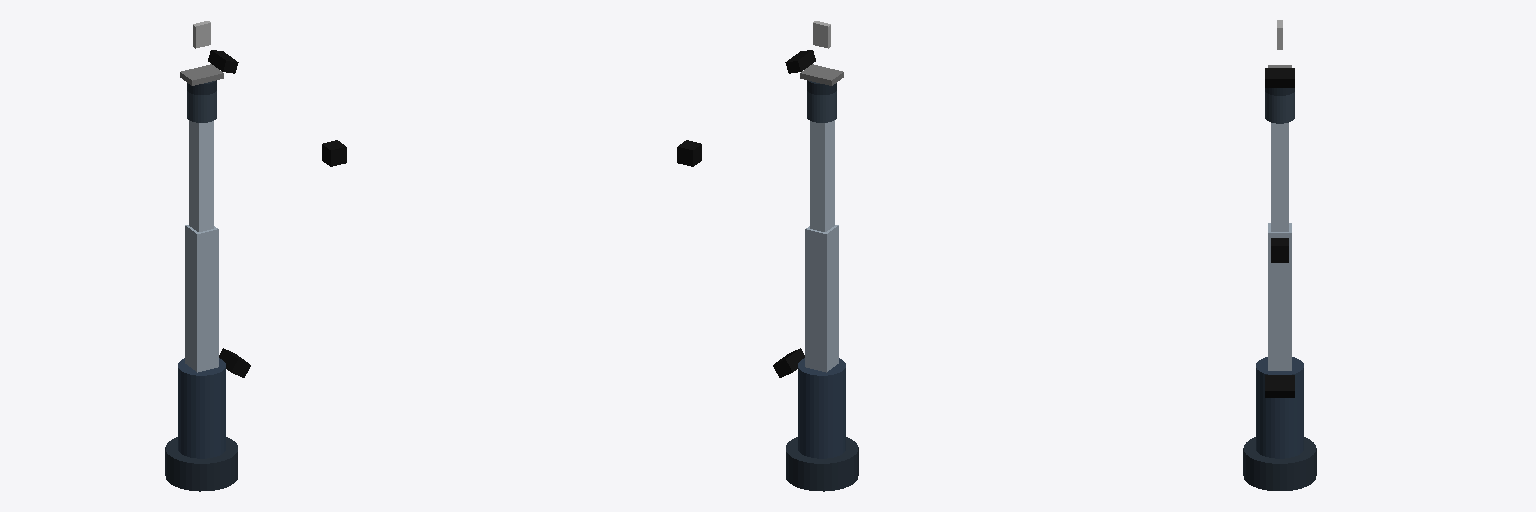
URDF robot description (robot_arm):
<?xml version="1.0" ?>
<!-- =================================================================================== -->
<!-- |    This document was autogenerated by xacro from /home/tienle/ARMROBOT/src/robot_arm/urdf/robot_arm.urdf.xacro | -->
<!-- |    EDITING THIS FILE BY HAND IS NOT RECOMMENDED                                 | -->
<!-- =================================================================================== -->
<robot name="robot_arm">
  <!-- ===================== LINKS & JOINTS ===================== -->
  <!-- World link (for fixed base) -->
  <link name="world"/>
  <!-- Base Link -->
  <joint name="world_to_base" type="fixed">
    <parent link="world"/>
    <child link="base_link"/>
    <origin rpy="0 0 0" xyz="0 0 0.025"/>
  </joint>
  <link name="base_link">
    <inertial>
      <mass value="2.0"/>
      <inertia ixx="0.0022166666666666663" ixy="0" ixz="0" iyy="0.0022166666666666663" iyz="0" izz="0.0036"/>
    </inertial>
    <visual>
      <geometry>
        <cylinder length="0.05" radius="0.06"/>
      </geometry>
      <material name="dark_slate">
        <color rgba="0.18 0.22 0.26 1.0"/>
      </material>
    </visual>
    <collision>
      <geometry>
        <cylinder length="0.05" radius="0.06"/>
      </geometry>
    </collision>
  </link>
  <!-- Link1 - Turret (rotates around Z) -->
  <joint name="joint1" type="revolute">
    <parent link="base_link"/>
    <child link="link1"/>
    <origin rpy="0 0 0" xyz="0 0 0.025"/>
    <axis xyz="0 0 1"/>
    <limit effort="50.0" lower="-3.141592653589793" upper="3.141592653589793" velocity="2.0"/>
    <dynamics damping="0.5" friction="0.1"/>
  </joint>
  <link name="link1">
    <inertial>
      <mass value="1.0"/>
      <inertia ixx="0.0022749999999999997" ixy="0" ixz="0" iyy="0.0022749999999999997" iyz="0" izz="0.0008"/>
    </inertial>
    <visual>
      <origin rpy="0 0 0" xyz="0 0 0.075"/>
      <geometry>
        <cylinder length="0.15" radius="0.04"/>
      </geometry>
      <material name="slate_grey">
        <color rgba="0.22 0.28 0.35 1.0"/>
      </material>
    </visual>
    <collision>
      <origin rpy="0 0 0" xyz="0 0 0.075"/>
      <geometry>
        <cylinder length="0.15" radius="0.04"/>
      </geometry>
    </collision>
  </link>
  <!-- Link2 - Upper arm (rotates around Y) -->
  <joint name="joint2" type="revolute">
    <parent link="link1"/>
    <child link="link2"/>
    <origin rpy="0 0 0" xyz="0 0 0.15"/>
    <axis xyz="0 1 0"/>
    <limit effort="50.0" lower="-2.5" upper="2.5" velocity="2.0"/>
    <dynamics damping="0.5" friction="0.1"/>
  </joint>
  <link name="link2">
    <inertial>
      <mass value="0.8"/>
      <inertia ixx="0.004273333333333334" ixy="0" ixz="0" iyy="0.004273333333333334" iyz="0" izz="0.00021333333333333333"/>
    </inertial>
    <visual>
      <origin rpy="0 0 0" xyz="0 0 0.125"/>
      <geometry>
        <box size="0.04 0.04 0.25"/>
      </geometry>
      <material name="metallic_silver">
        <color rgba="0.65 0.70 0.75 1.0"/>
      </material>
    </visual>
    <collision>
      <origin rpy="0 0 0" xyz="0 0 0.125"/>
      <geometry>
        <box size="0.04 0.04 0.25"/>
      </geometry>
    </collision>
  </link>
  <!-- Link3 - Forearm (rotates around Y) -->
  <joint name="joint3" type="revolute">
    <parent link="link2"/>
    <child link="link3"/>
    <origin rpy="0 0 0" xyz="0 0 0.25"/>
    <axis xyz="0 1 0"/>
    <limit effort="50.0" lower="-2.5" upper="2.5" velocity="2.0"/>
    <dynamics damping="0.3" friction="0.1"/>
  </joint>
  <link name="link3">
    <inertial>
      <mass value="0.5"/>
      <inertia ixx="0.0017041666666666668" ixy="0" ixz="0" iyy="0.0017041666666666668" iyz="0" izz="7.5e-05"/>
    </inertial>
    <visual>
      <origin rpy="0 0 0" xyz="0 0 0.1"/>
      <geometry>
        <box size="0.03 0.03 0.2"/>
      </geometry>
      <material name="aluminum">
        <color rgba="0.70 0.75 0.80 1.0"/>
      </material>
    </visual>
    <collision>
      <origin rpy="0 0 0" xyz="0 0 0.1"/>
      <geometry>
        <box size="0.03 0.03 0.2"/>
      </geometry>
    </collision>
  </link>
  <!-- Link4 - Wrist (4th DOF: rotates around Y for wrist pitch) -->
  <joint name="joint4" type="revolute">
    <parent link="link3"/>
    <child link="link4"/>
    <origin rpy="0 0 0" xyz="0 0 0.2"/>
    <axis xyz="0 1 0"/>
    <limit effort="20.0" lower="-2.2" upper="2.2" velocity="3.0"/>
    <dynamics damping="0.2" friction="0.05"/>
  </joint>
  <link name="link4">
    <inertial>
      <mass value="0.15"/>
      <inertia ixx="3.46875e-05" ixy="0" ixz="0" iyy="3.46875e-05" iyz="0" izz="4.6875e-05"/>
    </inertial>
    <visual>
      <origin rpy="0 0 0" xyz="0 0 0.015"/>
      <geometry>
        <cylinder length="0.03" radius="0.025"/>
      </geometry>
      <material name="wrist_dark">
        <color rgba="0.25 0.30 0.35 1.0"/>
      </material>
    </visual>
    <collision>
      <origin rpy="0 0 0" xyz="0 0 0.015"/>
      <geometry>
        <cylinder length="0.03" radius="0.025"/>
      </geometry>
    </collision>
  </link>
  <!-- Joint 5 - Wrist Pitch/Yaw (rotates around X) -->
  <joint name="joint5" type="revolute">
    <parent link="link4"/>
    <child link="link5"/>
    <origin rpy="0 0 0" xyz="0 0 0.03"/>
    <axis xyz="1 0 0"/>
    <limit effort="20.0" lower="-2.5" upper="2.5" velocity="3.0"/>
    <dynamics damping="0.1" friction="0.05"/>
  </joint>
  <link name="link5">
    <inertial>
      <mass value="0.1"/>
      <inertia ixx="1.8958333333333338e-05" ixy="0" ixz="0" iyy="1.8958333333333338e-05" iyz="0" izz="3.125000000000001e-05"/>
    </inertial>
    <visual>
      <origin rpy="0 0 0" xyz="0 0 0.01"/>
      <geometry>
        <cylinder length="0.02" radius="0.025"/>
      </geometry>
      <material name="wrist_dark">
        <color rgba="0.25 0.30 0.35 1.0"/>
      </material>
    </visual>
    <collision>
      <origin rpy="0 0 0" xyz="0 0 0.01"/>
      <geometry>
        <cylinder length="0.02" radius="0.025"/>
      </geometry>
    </collision>
  </link>
  <!-- Joint 6 - Tool Flange / Wrist Roll (rotates around Z) -->
  <joint name="joint6" type="revolute">
    <parent link="link5"/>
    <child link="link6"/>
    <origin rpy="0 0 0" xyz="0 0 0.02"/>
    <axis xyz="0 0 1"/>
    <limit effort="20.0" lower="-3.141592653589793" upper="3.141592653589793" velocity="3.0"/>
    <dynamics damping="0.1" friction="0.05"/>
  </joint>
  <link name="link6">
    <inertial>
      <mass value="0.08"/>
      <inertia ixx="1.516666666666667e-05" ixy="0" ixz="0" iyy="1.516666666666667e-05" iyz="0" izz="2.5e-05"/>
    </inertial>
    <visual>
      <origin rpy="0 0 0" xyz="0 0 0.01"/>
      <geometry>
        <cylinder length="0.02" radius="0.025"/>
      </geometry>
      <material name="flange_dark">
        <color rgba="0.18 0.22 0.26 1.0"/>
      </material>
    </visual>
    <collision>
      <origin rpy="0 0 0" xyz="0 0 0.01"/>
      <geometry>
        <cylinder length="0.02" radius="0.025"/>
      </geometry>
    </collision>
  </link>
  <joint name="end_effector_joint" type="fixed">
    <parent link="link6"/>
    <child link="end_effector_link"/>
    <origin rpy="0 0 0" xyz="0 0 0.02"/>
  </joint>
  <link name="end_effector_link"/>
  <!-- ===================== GRIPPER (Franka Hand Modern Parallel-Jaw) ===================== -->
  <!-- Gripper base (sits right at the end of the arm) -->
  <joint name="gripper_base_joint" type="fixed">
    <parent link="end_effector_link"/>
    <child link="gripper_base_link"/>
    <origin rpy="0 0 0" xyz="0 0 0"/>
  </joint>
  <link name="gripper_base_link">
    <inertial>
      <mass value="0.1"/>
      <inertia ixx="0.00015" ixy="0" ixz="0" iyy="5.9999999999999995e-05" iyz="0" izz="0.00015"/>
    </inertial>
    <visual>
      <origin rpy="0 0 0" xyz="0 0 0.005"/>
      <geometry>
        <box size="0.06 0.04 0.01"/>
      </geometry>
      <material name="grey">
        <color rgba="0.5 0.5 0.5 1.0"/>
      </material>
    </visual>
    <collision>
      <origin rpy="0 0 0" xyz="0 0 0.02"/>
      <geometry>
        <box size="0.06 0.12 0.05"/>
      </geometry>
    </collision>
  </link>
  <!-- Left finger (prismatic along Y, opens outward +Y, extends in +Z) -->
  <joint name="gripper_left_joint" type="prismatic">
    <parent link="gripper_base_link"/>
    <child link="finger_left_link"/>
    <origin rpy="0 0 0" xyz="0 0 0.0584"/>
    <axis xyz="0 1 0"/>
    <limit effort="20.0" lower="0.0" upper="0.035" velocity="0.5"/>
    <dynamics damping="0.1"/>
  </joint>
  <link name="finger_left_link">
    <inertial>
      <mass value="0.05"/>
      <inertia ixx="7.6041666666666666e-06" ixy="0" ixz="0" iyy="8.333333333333334e-06" iyz="0" izz="2.6041666666666666e-06"/>
    </inertial>
    <visual>
      <origin rpy="0 0 0" xyz="0 0 0.02"/>
      <geometry>
        <box size="0.03 0.01 0.04"/>
      </geometry>
      <material name="light_grey">
        <color rgba="0.7 0.7 0.7 1.0"/>
      </material>
    </visual>
    <collision>
      <origin rpy="0 0 0" xyz="0 0.0075 0.045"/>
      <geometry>
        <box size="0.018 0.015 0.04"/>
      </geometry>
    </collision>
  </link>
  <!-- Right finger (mimic of left, moves in -Y, extends in +Z) -->
  <joint name="gripper_right_joint" type="prismatic">
    <parent link="gripper_base_link"/>
    <child link="finger_right_link"/>
    <origin rpy="0 0 3.141592653589793" xyz="0 0 0.0584"/>
    <axis xyz="0 1 0"/>
    <limit effort="20.0" lower="0.0" upper="0.035" velocity="0.5"/>
    <mimic joint="gripper_left_joint" multiplier="1" offset="0"/>
    <dynamics damping="0.1"/>
  </joint>
  <link name="finger_right_link">
    <inertial>
      <mass value="0.05"/>
      <inertia ixx="7.6041666666666666e-06" ixy="0" ixz="0" iyy="8.333333333333334e-06" iyz="0" izz="2.6041666666666666e-06"/>
    </inertial>
    <visual>
      <origin rpy="0 0 0" xyz="0 0 0.02"/>
      <geometry>
        <box size="0.03 0.01 0.04"/>
      </geometry>
      <material name="light_grey">
        <color rgba="0.7 0.7 0.7 1.0"/>
      </material>
    </visual>
    <collision>
      <origin rpy="0 0 0" xyz="0 0.0075 0.045"/>
      <geometry>
        <box size="0.018 0.015 0.04"/>
      </geometry>
    </collision>
  </link>
  <!-- Grasp Center (virtual reference frame located at the center of the finger pads) -->
  <joint name="grasp_joint" type="fixed">
    <parent link="end_effector_link"/>
    <child link="grasp_link"/>
    <origin rpy="0 0 0" xyz="0 0 0.1034"/>
  </joint>
  <link name="grasp_link"/>
  <!-- ===================== CAMERA ===================== -->
  <!-- Camera mount (fixed overhead, looking straight down) -->
  <joint name="camera_joint" type="fixed">
    <parent link="base_link"/>
    <child link="camera_link"/>
    <origin rpy="0 1.5707963267948966 0" xyz="0.25 0.0 0.50"/>
  </joint>
  <link name="camera_link">
    <inertial>
      <mass value="0.05"/>
      <inertia ixx="7.499999999999999e-06" ixy="0" ixz="0" iyy="7.499999999999999e-06" iyz="0" izz="7.499999999999999e-06"/>
    </inertial>
    <visual>
      <geometry>
        <box size="0.03 0.03 0.03"/>
      </geometry>
      <material name="black">
        <color rgba="0.1 0.1 0.1 1.0"/>
      </material>
    </visual>
    <collision>
      <geometry>
        <box size="0.03 0.03 0.03"/>
      </geometry>
    </collision>
  </link>
  <!-- Camera optical frame (Z forward, X right, Y down) -->
  <joint name="camera_optical_joint" type="fixed">
    <parent link="camera_link"/>
    <child link="camera_optical_link"/>
    <origin rpy="-1.5707963267948966 0 -1.5707963267948966" xyz="0 0 0"/>
  </joint>
  <link name="camera_optical_link"/>
  <!-- ===================== DUAL DYNAMIC CAMERAS ===================== -->
  <!-- Dynamic Camera 1: Wrist Eye-in-Hand Camera (moves with gripper) -->
  <joint name="camera_wrist_joint" type="fixed">
    <parent link="gripper_base_link"/>
    <child link="camera_wrist_link"/>
    <origin rpy="0 0.35 0" xyz="0.04 0.0 0.02"/>
  </joint>
  <link name="camera_wrist_link">
    <inertial>
      <mass value="0.05"/>
      <inertia ixx="1.2083333333333337e-05" ixy="0" ixz="0" iyy="4.270833333333333e-06" iyz="0" izz="1.3020833333333336e-05"/>
    </inertial>
    <visual>
      <geometry>
        <box size="0.025 0.05 0.02"/>
      </geometry>
      <material name="black">
        <color rgba="0.1 0.1 0.1 1.0"/>
      </material>
    </visual>
    <collision>
      <geometry>
        <box size="0.025 0.05 0.02"/>
      </geometry>
    </collision>
  </link>
  <joint name="camera_wrist_optical_joint" type="fixed">
    <parent link="camera_wrist_link"/>
    <child link="camera_wrist_optical_link"/>
    <origin rpy="-1.5707963267948966 0 -1.5707963267948966" xyz="0 0 0"/>
  </joint>
  <link name="camera_wrist_optical_link"/>
  <!-- Dynamic Camera 2: Arm Turret Tracking Camera (moves with joint1 base yaw) -->
  <joint name="camera_arm_joint" type="fixed">
    <parent link="link1"/>
    <child link="camera_arm_link"/>
    <origin rpy="0 0.60 0" xyz="0.06 0.0 0.14"/>
  </joint>
  <link name="camera_arm_link">
    <inertial>
      <mass value="0.05"/>
      <inertia ixx="1.3020833333333336e-05" ixy="0" ixz="0" iyy="6.354166666666667e-06" iyz="0" izz="1.4166666666666668e-05"/>
    </inertial>
    <visual>
      <geometry>
        <box size="0.03 0.05 0.025"/>
      </geometry>
      <material name="black">
        <color rgba="0.1 0.1 0.1 1.0"/>
      </material>
    </visual>
    <collision>
      <geometry>
        <box size="0.03 0.05 0.025"/>
      </geometry>
    </collision>
  </link>
  <joint name="camera_arm_optical_joint" type="fixed">
    <parent link="camera_arm_link"/>
    <child link="camera_arm_optical_link"/>
    <origin rpy="-1.5707963267948966 0 -1.5707963267948966" xyz="0 0 0"/>
  </joint>
  <link name="camera_arm_optical_link"/>
  <!-- ===================== ros2_control HARDWARE INTERFACE ===================== -->
  <ros2_control name="GazeboSimSystem" type="system">
    <hardware>
      <plugin>gz_ros2_control/GazeboSimSystem</plugin>
    </hardware>
    <!-- Joint 1 - Base rotation -->
    <joint name="joint1">
      <command_interface name="position">
        <param name="min">-3.14159</param>
        <param name="max">3.14159</param>
      </command_interface>
      <state_interface name="position"/>
      <state_interface name="velocity"/>
    </joint>
    <!-- Joint 2 - Shoulder -->
    <joint name="joint2">
      <command_interface name="position">
        <param name="min">-2.5</param>
        <param name="max">2.5</param>
      </command_interface>
      <state_interface name="position"/>
      <state_interface name="velocity"/>
    </joint>
    <!-- Joint 3 - Elbow -->
    <joint name="joint3">
      <command_interface name="position">
        <param name="min">-2.5</param>
        <param name="max">2.5</param>
      </command_interface>
      <state_interface name="position"/>
      <state_interface name="velocity"/>
    </joint>
    <!-- Joint 4 - Wrist Pitch (4th DOF) -->
    <joint name="joint4">
      <command_interface name="position">
        <param name="min">-2.2</param>
        <param name="max">2.2</param>
      </command_interface>
      <state_interface name="position"/>
      <state_interface name="velocity"/>
    </joint>
    <!-- Joint 5 - Wrist Pitch/Yaw (5th DOF) -->
    <joint name="joint5">
      <command_interface name="position">
        <param name="min">-2.5</param>
        <param name="max">2.5</param>
      </command_interface>
      <state_interface name="position"/>
      <state_interface name="velocity"/>
    </joint>
    <!-- Joint 6 - Tool Flange Roll (6th DOF) -->
    <joint name="joint6">
      <command_interface name="position">
        <param name="min">-3.14159</param>
        <param name="max">3.14159</param>
      </command_interface>
      <state_interface name="position"/>
      <state_interface name="velocity"/>
    </joint>
    <!-- Gripper - Left finger -->
    <joint name="gripper_left_joint">
      <command_interface name="position">
        <param name="min">0.0</param>
        <param name="max">0.035</param>
      </command_interface>
      <state_interface name="position"/>
      <state_interface name="velocity"/>
    </joint>
    <!-- Gripper - Right finger (mimics left finger in opposite direction) -->
    <joint name="gripper_right_joint">
      <param name="mimic">gripper_left_joint</param>
      <param name="multiplier">1</param>
      <state_interface name="position"/>
      <state_interface name="velocity"/>
    </joint>
  </ros2_control>
  <!-- ===================== GAZEBO PLUGIN: ros2_control ===================== -->
  <gazebo>
    <plugin filename="gz_ros2_control-system" name="gz_ros2_control::GazeboSimROS2ControlPlugin">
      <parameters>/home/tienle/ARMROBOT/install/robot_arm/share/robot_arm/config/controllers_6dof.yaml</parameters>
    </plugin>
  </gazebo>
  <!-- ===================== GAZEBO COLORS (Modern Industrial Robotic Finish) ===================== -->
  <gazebo reference="base_link">
    <material>
      <ambient>0.18 0.22 0.26 1</ambient>
      <diffuse>0.18 0.22 0.26 1</diffuse>
      <specular>0.4 0.4 0.4 1</specular>
    </material>
  </gazebo>
  <gazebo reference="link1">
    <material>
      <ambient>0.22 0.28 0.35 1</ambient>
      <diffuse>0.22 0.28 0.35 1</diffuse>
      <specular>0.3 0.3 0.3 1</specular>
    </material>
  </gazebo>
  <gazebo reference="link2">
    <material>
      <ambient>0.65 0.70 0.75 1</ambient>
      <diffuse>0.65 0.70 0.75 1</diffuse>
      <specular>0.5 0.5 0.5 1</specular>
    </material>
  </gazebo>
  <gazebo reference="link3">
    <material>
      <ambient>0.70 0.75 0.80 1</ambient>
      <diffuse>0.70 0.75 0.80 1</diffuse>
      <specular>0.5 0.5 0.5 1</specular>
    </material>
  </gazebo>
  <!-- Link4 - Wrist Pitch -->
  <gazebo reference="link4">
    <material>
      <ambient>0.25 0.30 0.35 1</ambient>
      <diffuse>0.25 0.30 0.35 1</diffuse>
      <specular>0.3 0.3 0.3 1</specular>
    </material>
  </gazebo>
  <!-- Link5 - Wrist Pitch/Roll -->
  <gazebo reference="link5">
    <material>
      <ambient>0.18 0.22 0.26 1</ambient>
      <diffuse>0.18 0.22 0.26 1</diffuse>
      <specular>0.4 0.4 0.4 1</specular>
    </material>
  </gazebo>
  <!-- Link6 - Flange / Wrist Roll -->
  <gazebo reference="link6">
    <material>
      <ambient>0.25 0.30 0.35 1</ambient>
      <diffuse>0.25 0.30 0.35 1</diffuse>
      <specular>0.5 0.5 0.5 1</specular>
    </material>
  </gazebo>
  <!-- Franka Hand (Clean Industrial White) -->
  <gazebo reference="gripper_base_link">
    <material>
      <ambient>0.92 0.92 0.94 1</ambient>
      <diffuse>0.92 0.92 0.94 1</diffuse>
      <specular>0.6 0.6 0.6 1</specular>
    </material>
  </gazebo>
  <!-- Franka Left Finger -->
  <gazebo reference="finger_left_link">
    <mu1>100.0</mu1>
    <mu2>100.0</mu2>
    <kp>1000000.0</kp>
    <kd>1.0</kd>
    <minDepth>0.001</minDepth>
    <maxVel>0.0</maxVel>
    <material>
      <ambient>0.18 0.45 0.78 1</ambient>
      <diffuse>0.18 0.45 0.78 1</diffuse>
      <specular>0.5 0.5 0.5 1</specular>
    </material>
  </gazebo>
  <!-- Franka Right Finger -->
  <gazebo reference="finger_right_link">
    <mu1>100.0</mu1>
    <mu2>100.0</mu2>
    <kp>1000000.0</kp>
    <kd>1.0</kd>
    <minDepth>0.001</minDepth>
    <maxVel>0.0</maxVel>
    <material>
      <ambient>0.18 0.45 0.78 1</ambient>
      <diffuse>0.18 0.45 0.78 1</diffuse>
      <specular>0.5 0.5 0.5 1</specular>
    </material>
  </gazebo>
  <gazebo reference="camera_link">
    <material>
      <ambient>0.1 0.1 0.1 1</ambient>
      <diffuse>0.1 0.1 0.1 1</diffuse>
    </material>
  </gazebo>
  <!-- ===================== SENSOR 1: OVERHEAD SCENE CAMERA ===================== -->
  <gazebo reference="camera_link">
    <sensor name="rgbd_camera" type="rgbd_camera">
      <camera>
        <horizontal_fov>1.047</horizontal_fov>
        <image>
          <width>640</width>
          <height>480</height>
          <format>R8G8B8</format>
        </image>
        <clip>
          <near>0.05</near>
          <far>3.0</far>
        </clip>
        <depth_camera>
          <clip>
            <near>0.05</near>
            <far>3.0</far>
          </clip>
        </depth_camera>
      </camera>
      <always_on>1</always_on>
      <update_rate>15</update_rate>
      <visualize>true</visualize>
      <topic>camera</topic>
      <gz_frame_id>camera_link</gz_frame_id>
    </sensor>
  </gazebo>
  <!-- ===================== SENSOR 2: DYNAMIC WRIST EYE-IN-HAND CAMERA ===================== -->
  <gazebo reference="camera_wrist_link">
    <material>
      <ambient>0.1 0.1 0.1 1</ambient>
      <diffuse>0.1 0.1 0.1 1</diffuse>
    </material>
    <sensor name="camera_wrist" type="rgbd_camera">
      <camera>
        <horizontal_fov>1.15</horizontal_fov>
        <image>
          <width>640</width>
          <height>480</height>
          <format>R8G8B8</format>
        </image>
        <clip>
          <near>0.02</near>
          <far>2.0</far>
        </clip>
        <depth_camera>
          <clip>
            <near>0.02</near>
            <far>2.0</far>
          </clip>
        </depth_camera>
      </camera>
      <always_on>1</always_on>
      <update_rate>20</update_rate>
      <visualize>true</visualize>
      <topic>camera_wrist</topic>
      <gz_frame_id>camera_wrist_link</gz_frame_id>
    </sensor>
  </gazebo>
  <!-- ===================== SENSOR 3: DYNAMIC ARM TURRET TRACKING CAMERA ===================== -->
  <gazebo reference="camera_arm_link">
    <material>
      <ambient>0.1 0.1 0.1 1</ambient>
      <diffuse>0.1 0.1 0.1 1</diffuse>
    </material>
    <sensor name="camera_arm" type="rgbd_camera">
      <camera>
        <horizontal_fov>1.20</horizontal_fov>
        <image>
          <width>640</width>
          <height>480</height>
          <format>R8G8B8</format>
        </image>
        <clip>
          <near>0.05</near>
          <far>3.0</far>
        </clip>
        <depth_camera>
          <clip>
            <near>0.05</near>
            <far>3.0</far>
          </clip>
        </depth_camera>
      </camera>
      <always_on>1</always_on>
      <update_rate>15</update_rate>
      <visualize>true</visualize>
      <topic>camera_arm</topic>
      <gz_frame_id>camera_arm_link</gz_frame_id>
    </sensor>
  </gazebo>
</robot>

--- Render facts (derived) ---
3 views of the same robot in one strip: view 1: azimuth 30°, elevation 25°; view 2: azimuth 150°, elevation 25°; view 3: azimuth 270°, elevation 25° (orthographic).
Robot: robot_arm — 19 links, 18 joints (6 revolute, 2 prismatic, 10 fixed); root link world; default pose: every joint at zero.
Visible links, largest first — view 1: link2, link1, base_link, link3, gripper_base_link, camera_link; view 2: link2, link1, base_link, link3, gripper_base_link, camera_link; view 3: link1, link2, base_link, link3, camera_arm_link, camera_wrist_link.
Boxes of the visible links, <box> form: link2: <box>185,225,218,372</box>; link1: <box>178,358,225,458</box>; base_link: <box>165,437,237,491</box>; link3: <box>189,120,213,231</box>; gripper_base_link: <box>180,64,223,85</box>; camera_link: <box>322,140,346,166</box>; link2: <box>805,225,838,372</box>; link1: <box>798,358,845,458</box>; base_link: <box>786,437,858,491</box>; link3: <box>810,120,834,231</box>; gripper_base_link: <box>800,64,843,85</box>; camera_link: <box>677,140,701,166</box>; link1: <box>1256,357,1303,458</box>; link2: <box>1268,223,1291,370</box>; base_link: <box>1243,437,1316,490</box>; link3: <box>1271,123,1288,231</box>; camera_arm_link: <box>1265,375,1294,397</box>; camera_wrist_link: <box>1265,68,1294,87</box>.
Bounding box of the posed robot: 0.325 × 0.12 × 0.8184 m (x, y, z).
Geometry: primitives only (box / cylinder / sphere), no mesh files.
